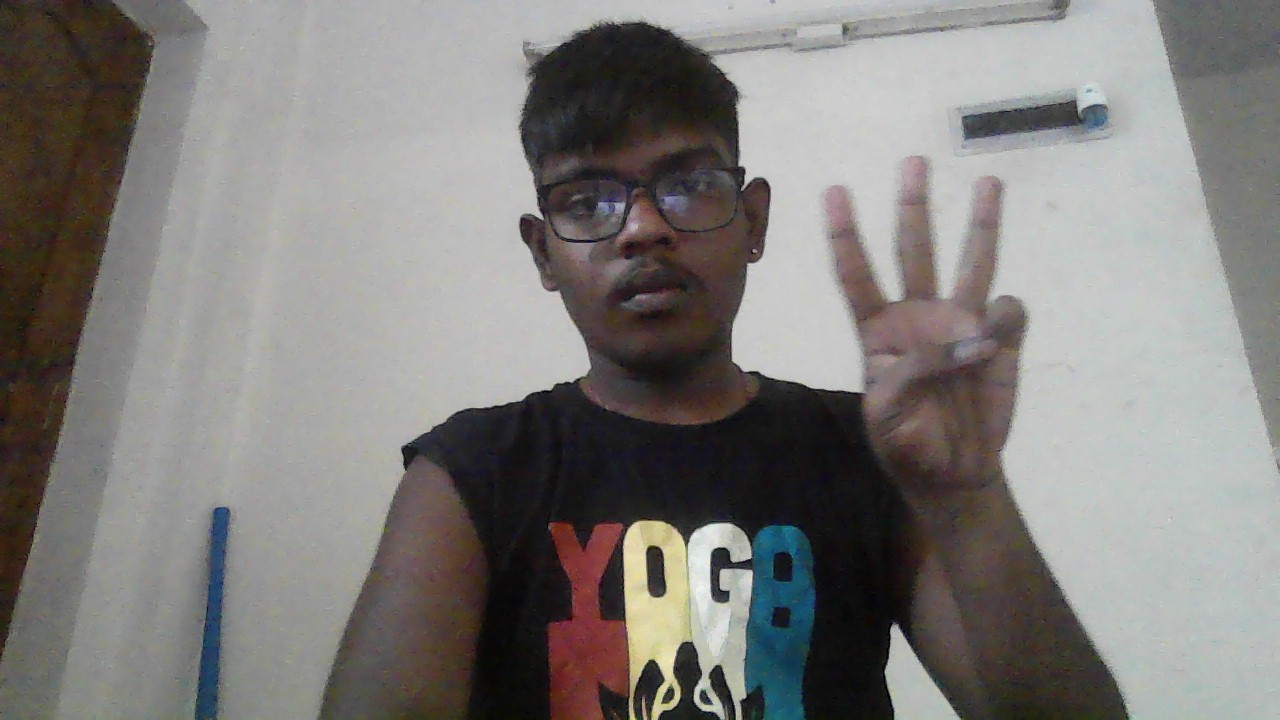W: (825, 153, 1026, 481)
